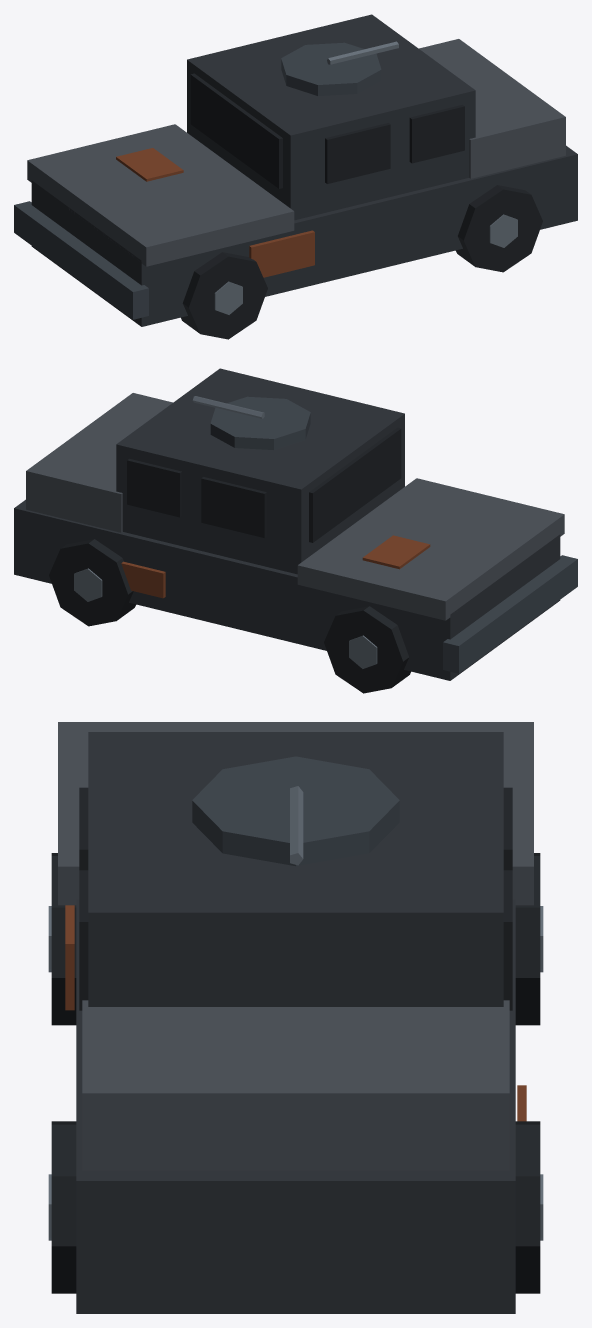
File: env_wreck_humvee.fbx
3 views of the same model, one above another, from view 1: azimuth 30°, elevation 25°; view 2: azimuth 150°, elevation 25°; view 3: azimuth 270°, elevation 25° (orthographic). The views are drawn at different scales.
Visible parts, largest first — view 1: env_wreck_humvee; view 2: env_wreck_humvee; view 3: env_wreck_humvee.
Part boxes in pixels (bbox=[...]): env_wreck_humvee: bbox=[14, 14, 577, 339]; env_wreck_humvee: bbox=[14, 368, 577, 693]; env_wreck_humvee: bbox=[48, 722, 543, 1313].
Bounding box in the file's own units: 1700 × 711 × 810.
